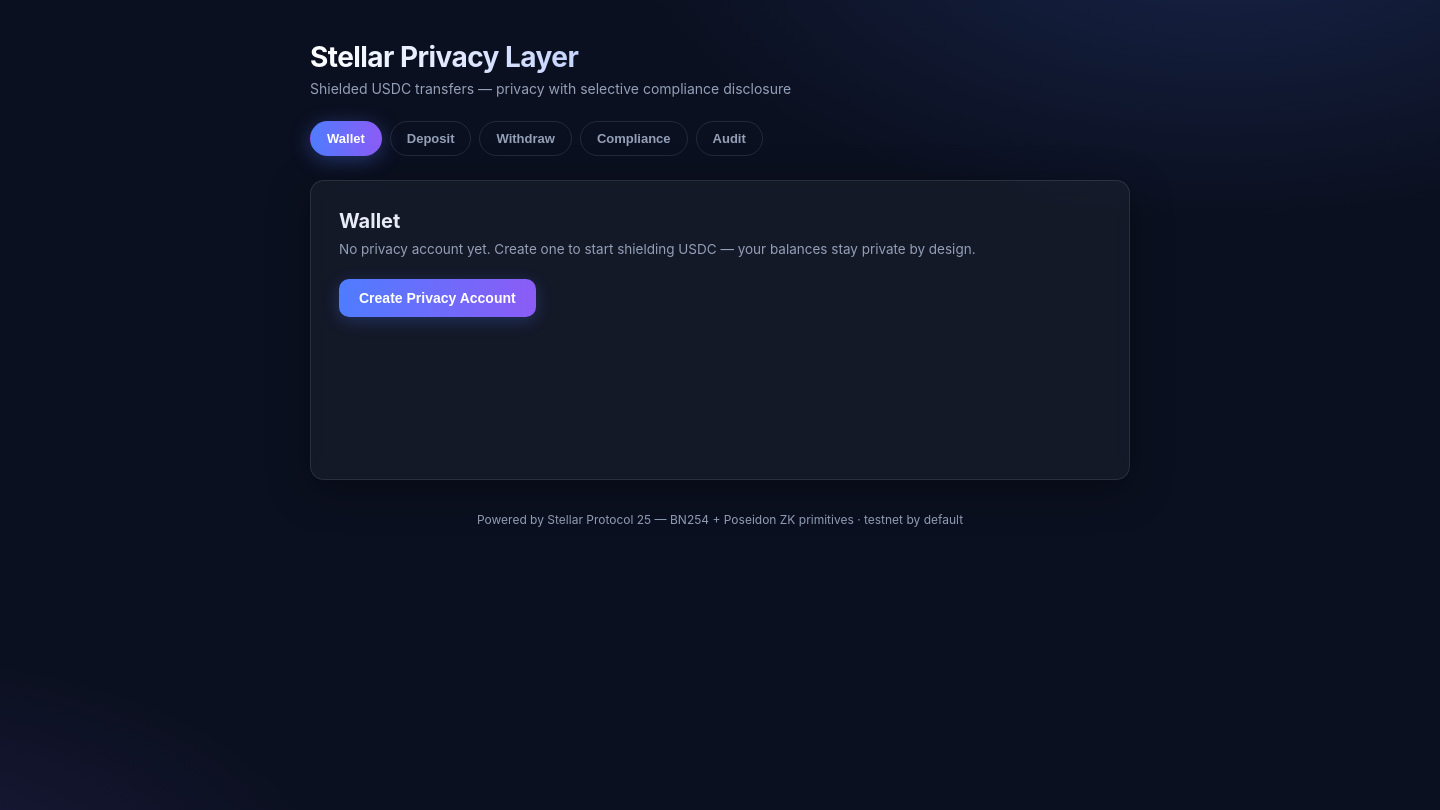
Test: App › shows an error banner when a deposit fails
Click the button "Create Privacy Account" at (437, 298), box [339,279,536,317]
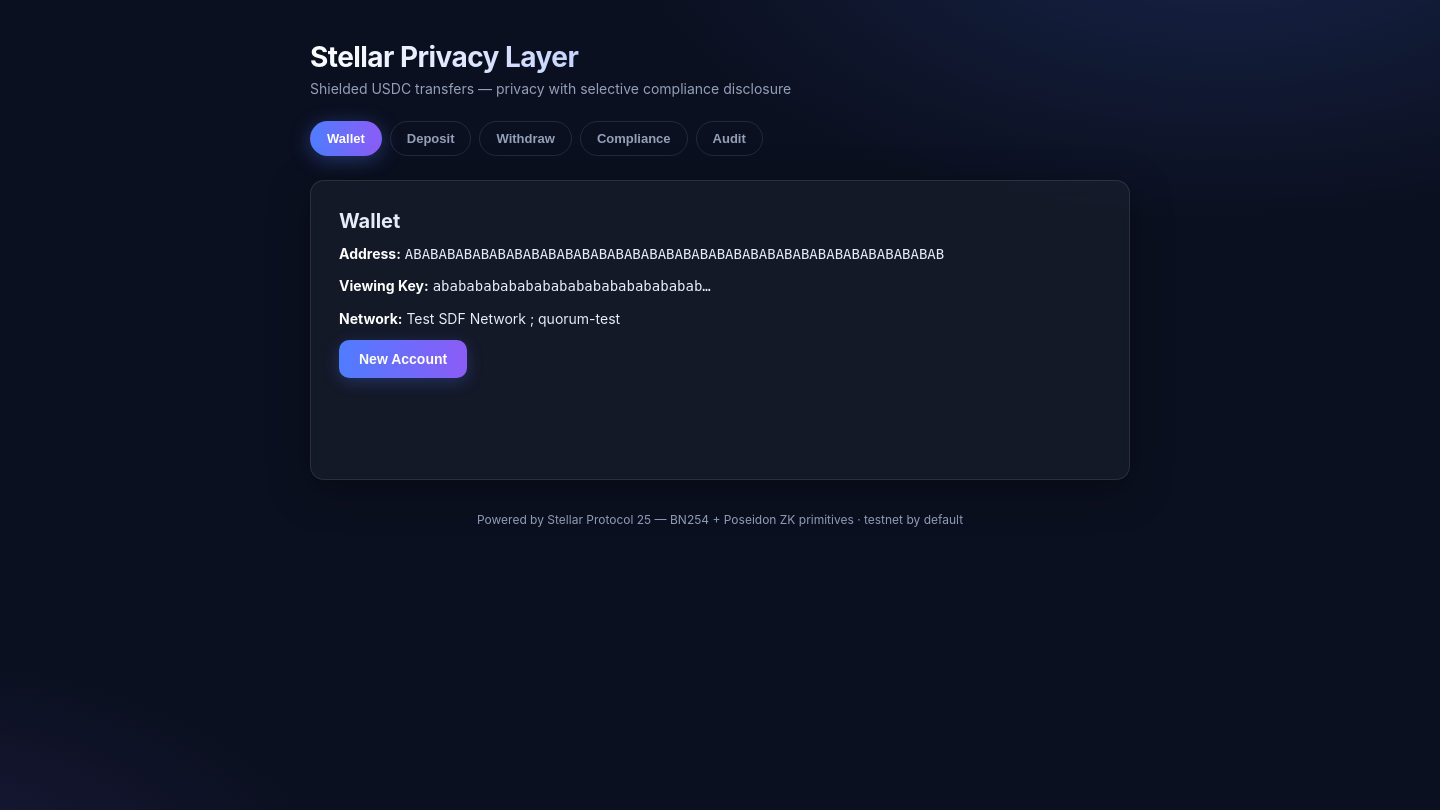
Click the button "Deposit" at (431, 138), box [390,121,472,156]
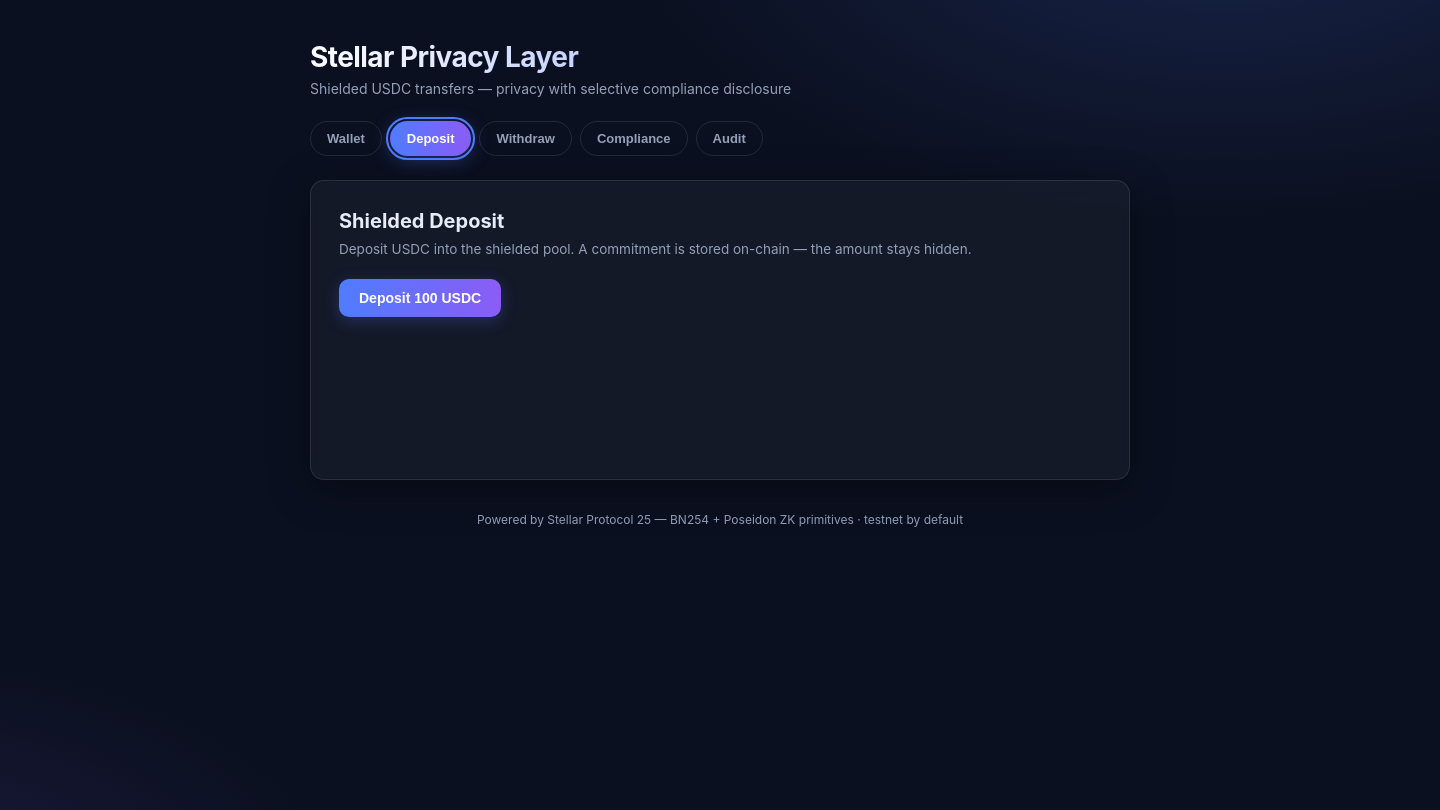
Click the button "Deposit 100 USDC" at (420, 298), box [339,279,501,317]
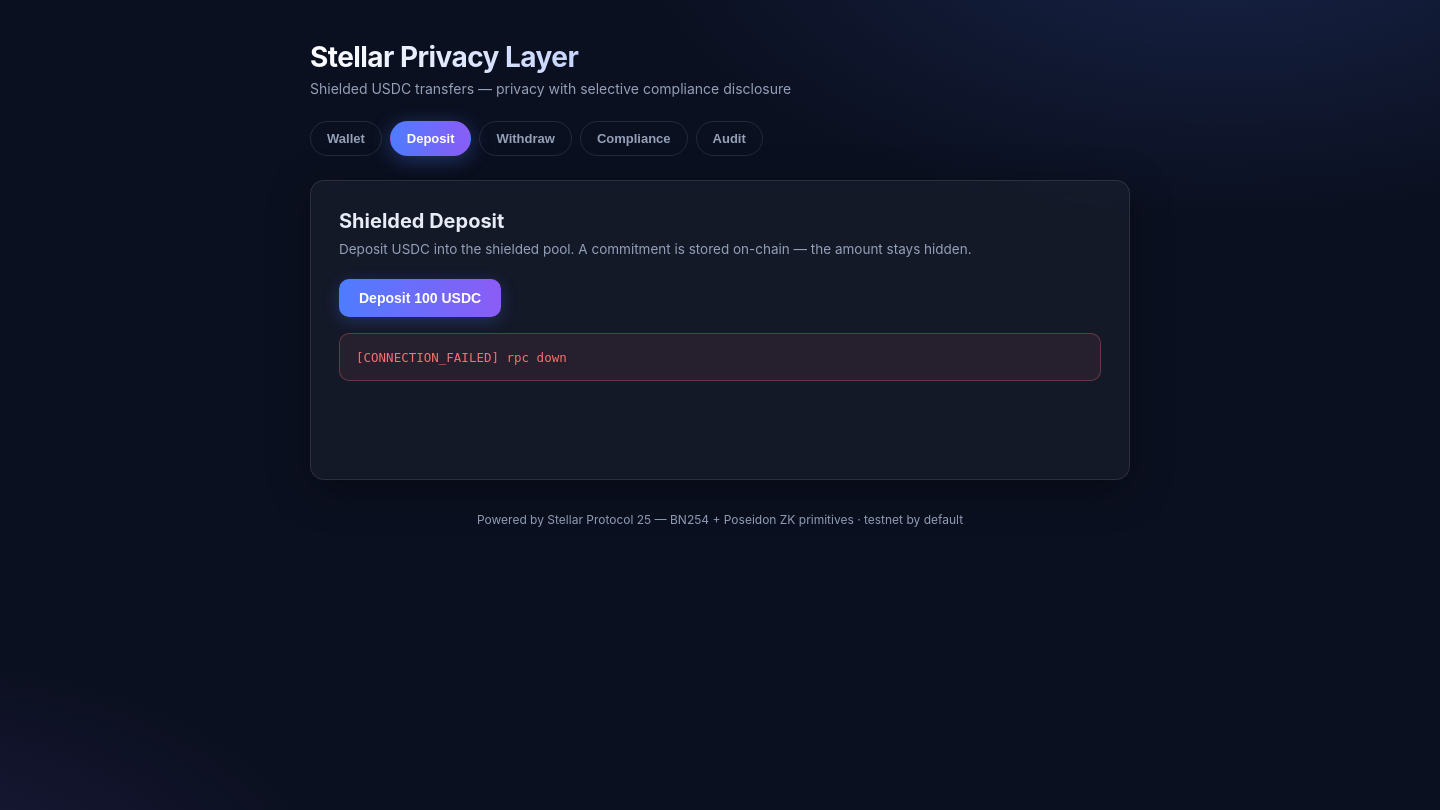
expect the message shows "rpc down": met, box [356,350,567,365]
expect the message shows "CONNECTION_FAILED": met, box [356,350,567,365]
